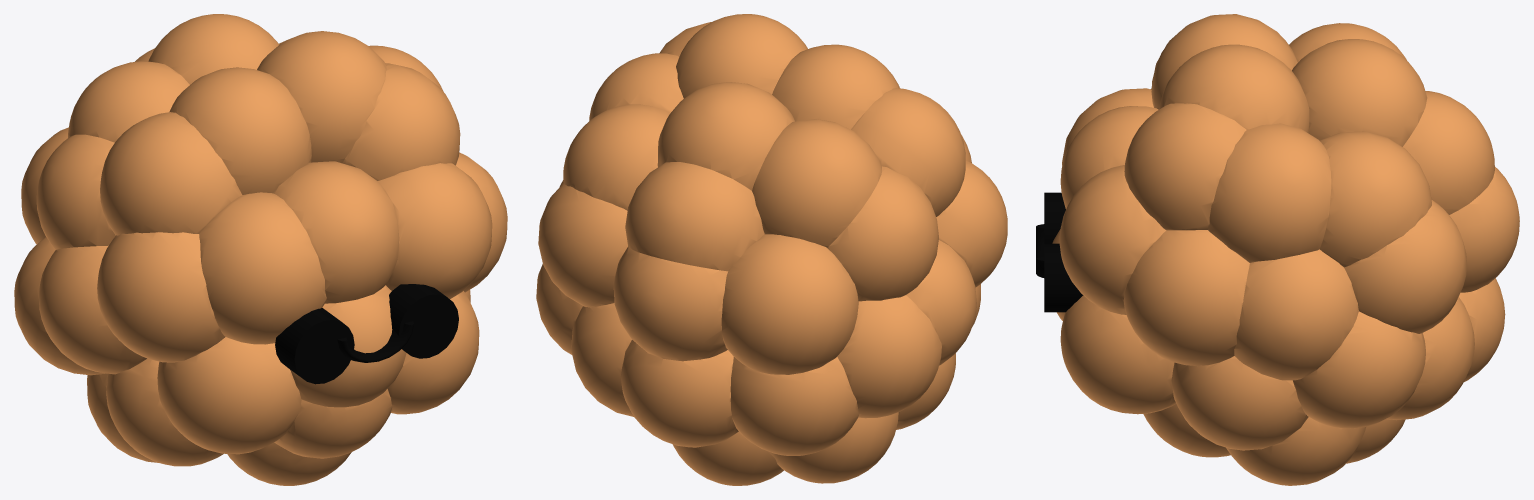
Rendered from ORANGE2.fbx.
The picture shows the model from 3 angles, left to right: view 1: azimuth 30°, elevation 25°; view 2: azimuth 150°, elevation 25°; view 3: azimuth 270°, elevation 25°; orthographic projection. The views are drawn at different scales.
Parts seen in each view (by area): view 1: pasted__pasted__polySurface258; view 2: pasted__pasted__polySurface258; view 3: pasted__pasted__polySurface258.
Part boxes in pixels (<box>): pasted__pasted__polySurface258: <box>14,14,507,485</box>; pasted__pasted__polySurface258: <box>536,14,1007,485</box>; pasted__pasted__polySurface258: <box>1036,14,1519,485</box>.
Bounding box in the file's own units: 9.36 × 9.24 × 9.48.
